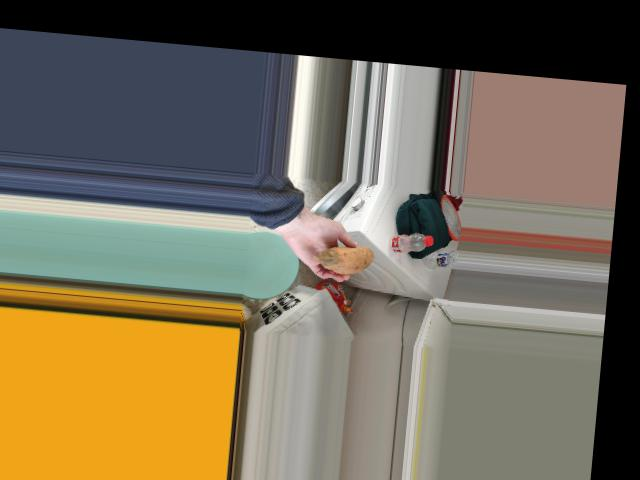sweet_potato: (310, 239, 378, 273)
